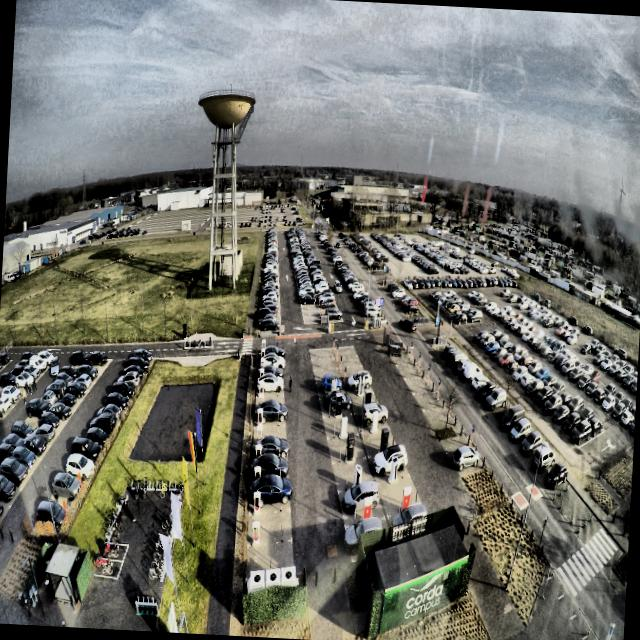cabinet: (250, 566, 296, 587)
car: (252, 473, 293, 510), (253, 454, 289, 480), (257, 399, 289, 423), (255, 436, 291, 456), (256, 372, 287, 394), (257, 364, 284, 383), (260, 352, 286, 370), (262, 345, 287, 362)
parking: (248, 509, 292, 545), (247, 540, 293, 574), (250, 482, 290, 513), (251, 461, 289, 487), (252, 443, 288, 466), (253, 424, 287, 445), (254, 409, 286, 427), (255, 395, 285, 411), (256, 383, 284, 397), (257, 373, 284, 384), (259, 351, 283, 363), (258, 362, 283, 373)
supercharger: (252, 522, 260, 544), (254, 492, 261, 514), (254, 467, 261, 486), (256, 445, 262, 460), (257, 426, 263, 441), (258, 409, 263, 426), (259, 394, 264, 409), (259, 381, 264, 394), (260, 369, 265, 380), (261, 349, 265, 360), (261, 359, 265, 369), (262, 340, 266, 349)
